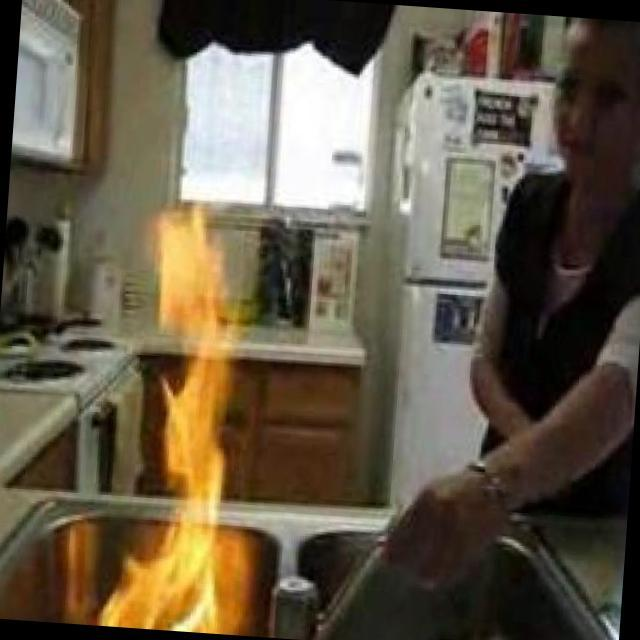Fire: (90, 205, 269, 636)
